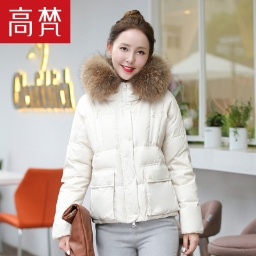face: (105, 8, 156, 82)
